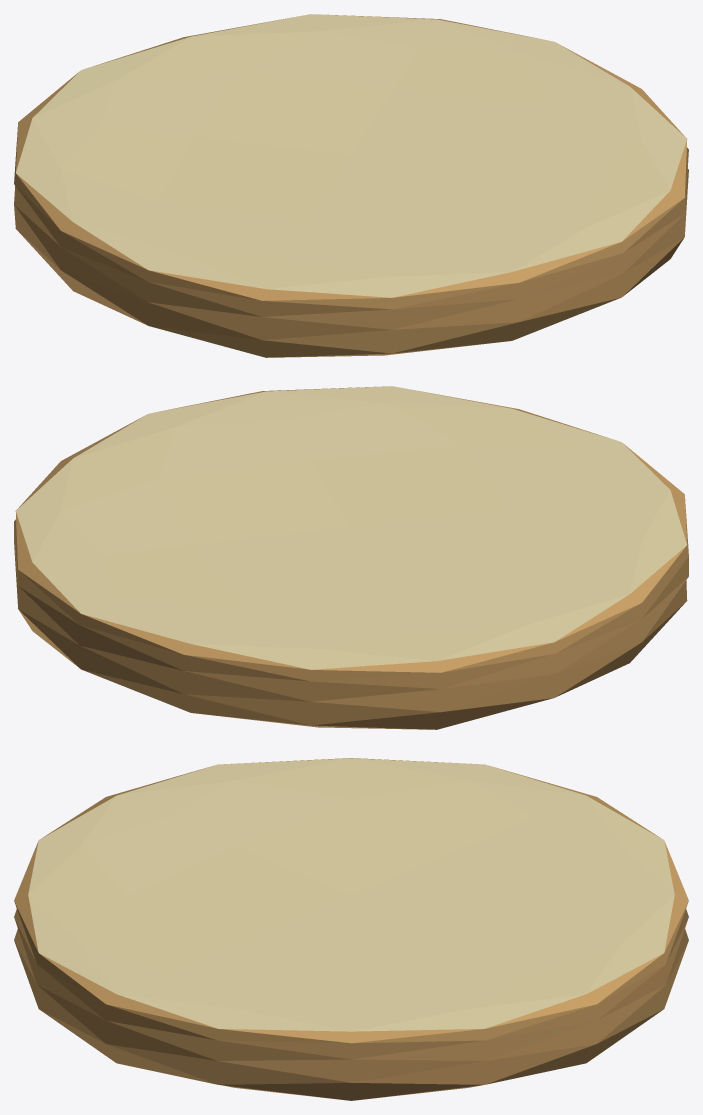
The model's file is pan_abajo.fbx.
3 renders of one model, top to bottom at view 1: azimuth 30°, elevation 25°; view 2: azimuth 150°, elevation 25°; view 3: azimuth 270°, elevation 25°, orthographic.
Parts seen in each view (by area): view 1: Pan abajo; view 2: Pan abajo; view 3: Pan abajo.
Boxes of the visible parts, x1,y1,x2,y2 form: Pan abajo: [14, 14, 688, 357]; Pan abajo: [14, 386, 688, 729]; Pan abajo: [14, 758, 688, 1100].
Size of the model in its own units: 1.83 by 0.2785 by 1.83.
